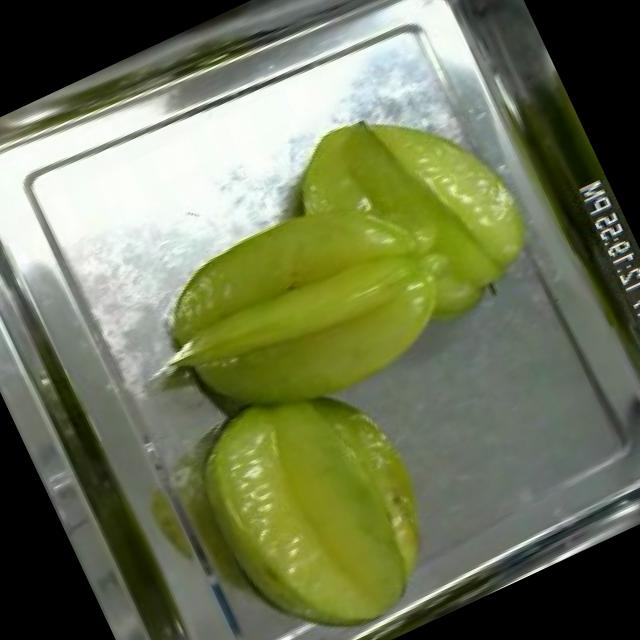fruit: (238, 59, 574, 399), (158, 338, 474, 640)
